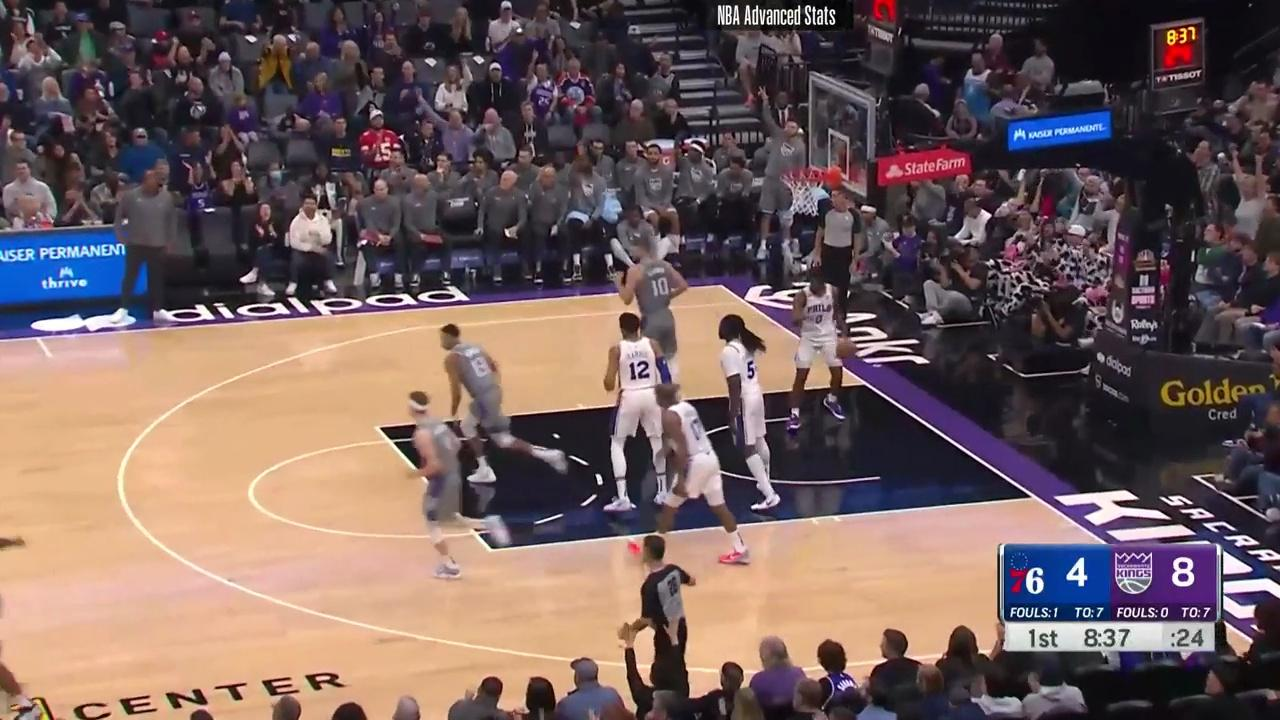Backboard: (809, 78, 875, 200)
Ball: (835, 338, 857, 360)
Basket: (780, 164, 828, 221)
Person: (384, 392, 515, 580), (642, 385, 749, 567), (434, 323, 548, 471), (600, 310, 672, 518), (711, 312, 782, 505), (785, 267, 846, 430), (622, 238, 688, 370)
Referee: (621, 535, 706, 702), (815, 189, 866, 313)
Shot Clock: (1145, 15, 1210, 114), (857, 0, 905, 83)
